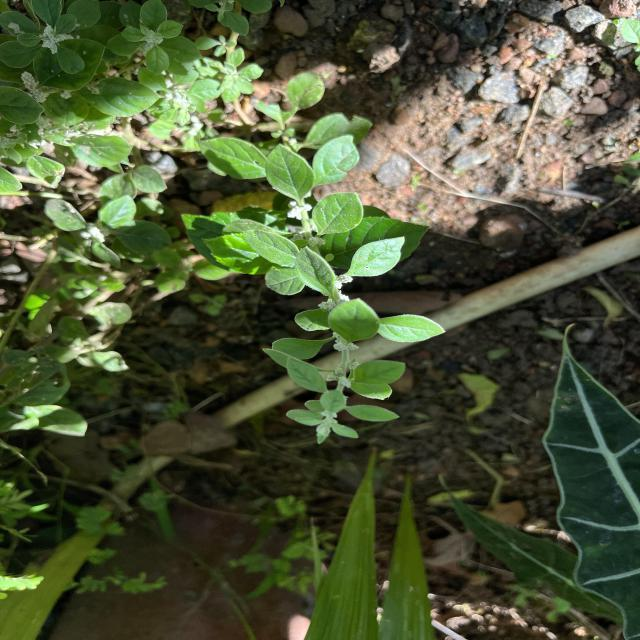Aerva lanata: (293, 243, 341, 300), (310, 191, 366, 236), (374, 314, 448, 344), (242, 228, 300, 266)
